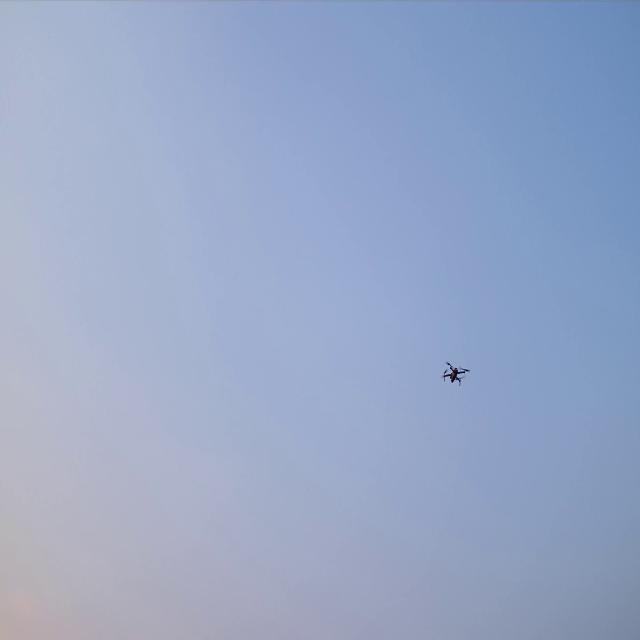UAV: (440, 360, 471, 387)
